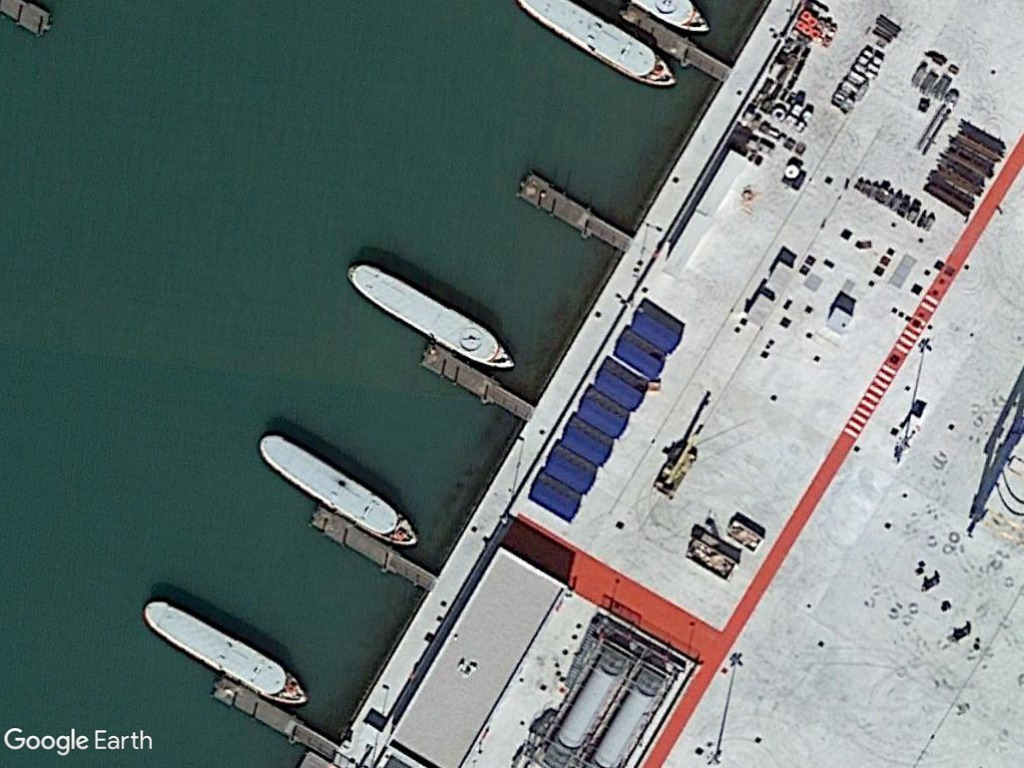boat: (343, 256, 519, 376), (256, 430, 423, 552), (140, 594, 310, 709)
